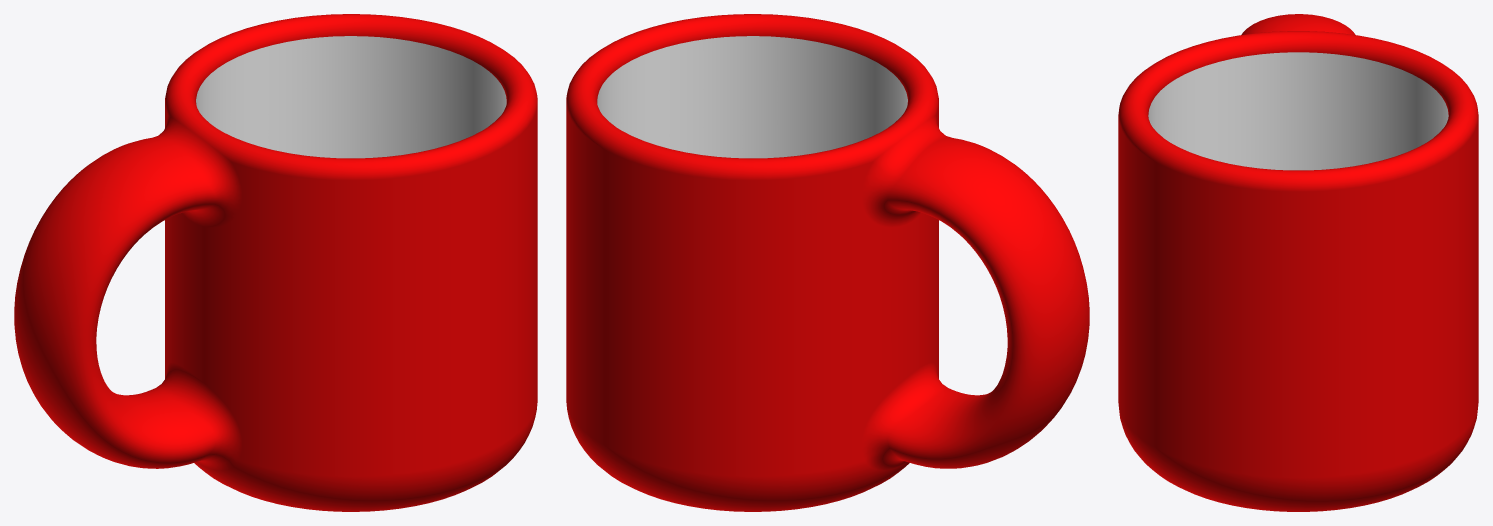
File: cup_ceramic.dae
3 renders of one model, left to right at view 1: azimuth 30°, elevation 25°; view 2: azimuth 150°, elevation 25°; view 3: azimuth 270°, elevation 25°, orthographic. The views are drawn at different scales.
Visible parts, largest first — view 1: mesh_1_cup_, mesh_2_Fillet3_face; view 2: mesh_1_cup_, mesh_2_Fillet3_face; view 3: mesh_1_cup_, mesh_2_Fillet3_face.
Part boxes in pixels (<box>): mesh_1_cup_: <box>14,14,537,511</box>; mesh_2_Fillet3_face: <box>196,36,506,158</box>; mesh_1_cup_: <box>566,14,1089,511</box>; mesh_2_Fillet3_face: <box>597,36,907,158</box>; mesh_1_cup_: <box>1118,14,1478,511</box>; mesh_2_Fillet3_face: <box>1148,52,1448,170</box>.
Size of the model in its own units: 0.1799 by 0.12 by 0.1299.
